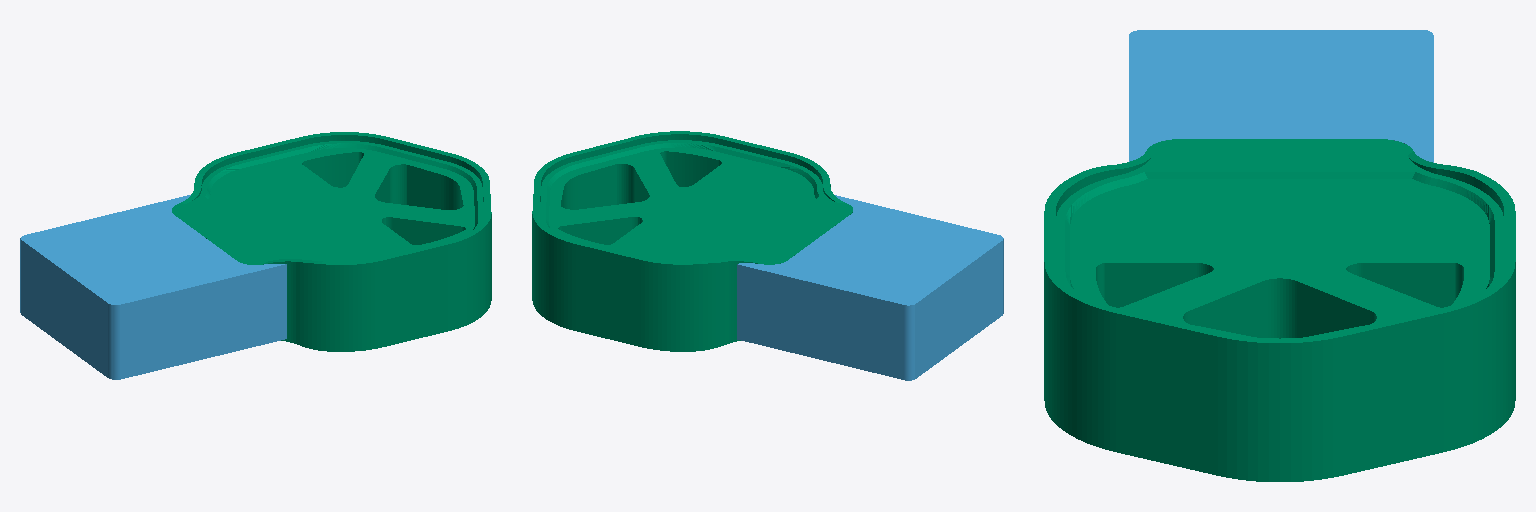
The robot description file, URDF, robot "partnet_429702143f78a053527a7cbd6d9c5851-0":
<?xml version="1.0" ?>
<robot name="partnet_429702143f78a053527a7cbd6d9c5851-0">
	<link name="base"/>
	<link name="link_0">
		<visual name="cap-1">
			<origin xyz="0 0 0"/>
			<geometry>
				<mesh filename="textured_objs/original-13.obj"/>
			</geometry>
		</visual>
		<collision>
			<origin xyz="0 0 0"/>
			<geometry>
				<mesh filename="textured_objs/original-13.obj"/>
			</geometry>
		</collision>
	</link>
	<joint name="joint_0" type="prismatic">
		<origin xyz="0 0 0"/>
		<axis xyz="0 0 1"/>
		<child link="link_0"/>
		<parent link="link_1"/>
		<limit lower="0" upper="0.5760000000000001"/>
	</joint>
	<link name="link_1">
		<visual name="base_body-2">
			<origin xyz="0 0 0"/>
			<geometry>
				<mesh filename="textured_objs/original-4.obj"/>
			</geometry>
		</visual>
		<visual name="base_body-2">
			<origin xyz="0 0 0"/>
			<geometry>
				<mesh filename="textured_objs/original-8.obj"/>
			</geometry>
		</visual>
		<visual name="base_body-2">
			<origin xyz="0 0 0"/>
			<geometry>
				<mesh filename="textured_objs/original-9.obj"/>
			</geometry>
		</visual>
		<visual name="base_body-2">
			<origin xyz="0 0 0"/>
			<geometry>
				<mesh filename="textured_objs/original-5.obj"/>
			</geometry>
		</visual>
		<visual name="base_body-2">
			<origin xyz="0 0 0"/>
			<geometry>
				<mesh filename="textured_objs/original-6.obj"/>
			</geometry>
		</visual>
		<visual name="base_body-2">
			<origin xyz="0 0 0"/>
			<geometry>
				<mesh filename="textured_objs/original-11.obj"/>
			</geometry>
		</visual>
		<visual name="base_body-2">
			<origin xyz="0 0 0"/>
			<geometry>
				<mesh filename="textured_objs/original-12.obj"/>
			</geometry>
		</visual>
		<visual name="base_body-2">
			<origin xyz="0 0 0"/>
			<geometry>
				<mesh filename="textured_objs/original-7.obj"/>
			</geometry>
		</visual>
		<visual name="base_body-2">
			<origin xyz="0 0 0"/>
			<geometry>
				<mesh filename="textured_objs/original-10.obj"/>
			</geometry>
		</visual>
		<collision>
			<origin xyz="0 0 0"/>
			<geometry>
				<mesh filename="textured_objs/original-4.obj"/>
			</geometry>
		</collision>
		<collision>
			<origin xyz="0 0 0"/>
			<geometry>
				<mesh filename="textured_objs/original-8.obj"/>
			</geometry>
		</collision>
		<collision>
			<origin xyz="0 0 0"/>
			<geometry>
				<mesh filename="textured_objs/original-9.obj"/>
			</geometry>
		</collision>
		<collision>
			<origin xyz="0 0 0"/>
			<geometry>
				<mesh filename="textured_objs/original-5.obj"/>
			</geometry>
		</collision>
		<collision>
			<origin xyz="0 0 0"/>
			<geometry>
				<mesh filename="textured_objs/original-6.obj"/>
			</geometry>
		</collision>
		<collision>
			<origin xyz="0 0 0"/>
			<geometry>
				<mesh filename="textured_objs/original-11.obj"/>
			</geometry>
		</collision>
		<collision>
			<origin xyz="0 0 0"/>
			<geometry>
				<mesh filename="textured_objs/original-12.obj"/>
			</geometry>
		</collision>
		<collision>
			<origin xyz="0 0 0"/>
			<geometry>
				<mesh filename="textured_objs/original-7.obj"/>
			</geometry>
		</collision>
		<collision>
			<origin xyz="0 0 0"/>
			<geometry>
				<mesh filename="textured_objs/original-10.obj"/>
			</geometry>
		</collision>
	</link>
	<joint name="joint_1" type="fixed">
		<origin rpy="1.570796326794897 0 -1.570796326794897" xyz="0 0 0"/>
		<child link="link_1"/>
		<parent link="base"/>
	</joint>
</robot>

--- Render facts (derived) ---
3 views of the same robot in one strip: view 1: azimuth 30°, elevation 25°; view 2: azimuth 150°, elevation 25°; view 3: azimuth 270°, elevation 25° (orthographic).
Model partnet_429702143f78a053527a7cbd6d9c5851-0 with 3 links and 2 joints (1 prismatic, 1 fixed), rooted at base, posed all joints at 0.
Links seen in each view (by area): view 1: link_1, link_0; view 2: link_1, link_0; view 3: link_1, link_0.
Link boxes in pixels (x1,y1,x2,y2): link_1: (172,132,491,351); link_0: (20,195,286,379); link_1: (532,131,852,351); link_0: (737,195,1003,380); link_1: (1044,139,1515,481); link_0: (1129,30,1433,162).
Size in the robot's own frame: 1.9 by 1.17 by 0.3807 metres.
Meshes: 10 distinct files referenced, 10 mesh visuals loaded (10 OBJ).
